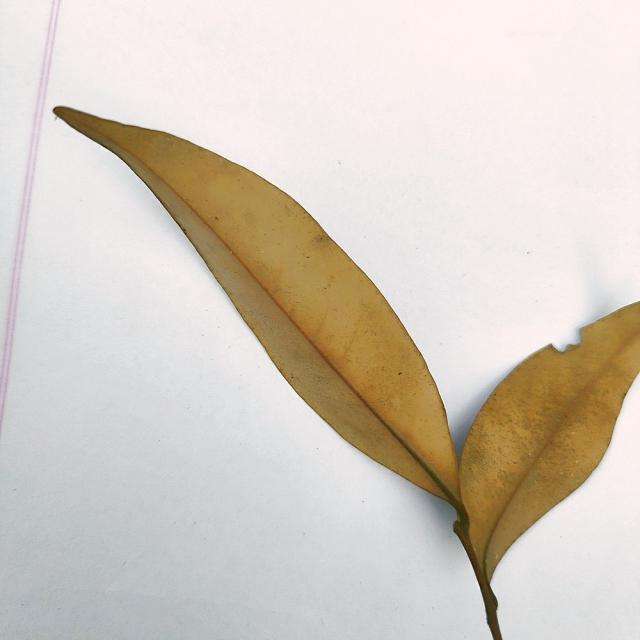Dry_Leaf-Lychee: (53, 108, 639, 639)
